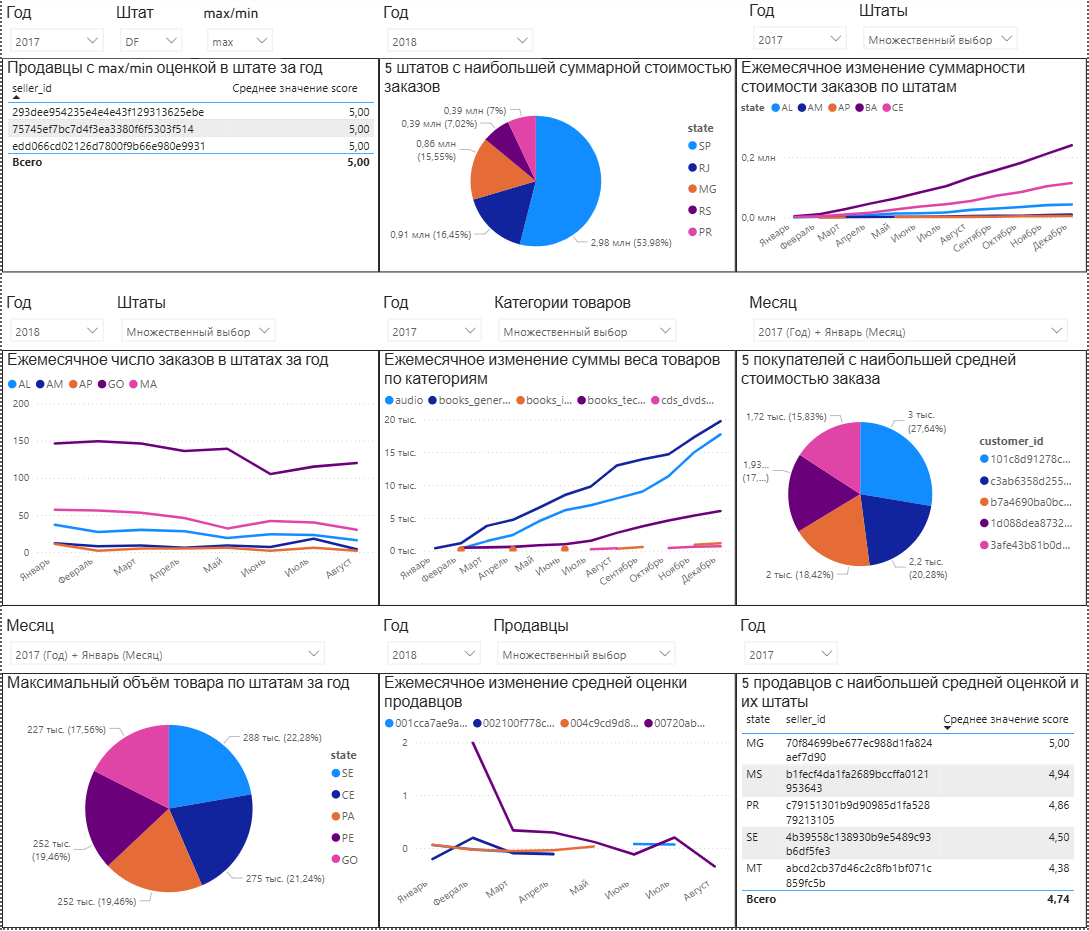

Layout of this report page (visuals, bound fields, positions):
{"tool":"powerbi","page":{"name":"Страница 1","canvas":[1280,1100],"ordinal":0},"visuals":[{"type":"tableEx","title":"Продавцы с max/min оценкой в штате за год","fields":{"Values":["Запрос1.seller_id","Avg(Запрос1.score)"]},"box":[0,73.1,445.1,252.9],"z":0},{"type":"slicer","title":"Год","fields":{"Values":["Запрос1.period.Изменение.Иерархия дат.Год"]},"box":[0,9.4,129.6,63.7],"z":1000},{"type":"slicer","title":"Штат","fields":{"Values":["Запрос1.state"]},"box":[129.6,9.4,93,63.7],"z":2000},{"type":"slicer","title":"max/min","fields":{"Values":["Запрос1.type"]},"box":[232,9.4,97.2,63.7],"z":3000},{"type":"lineChart","title":"Ежемесячное число заказов в штатах за год","fields":{"Category":["Запрос2.period.Изменение.Иерархия дат.Месяц"],"Y":["Avg(Запрос2.count)"],"Series":["Запрос2.state"]},"box":[0,418,445.1,302],"z":4000},{"type":"slicer","title":"Год","fields":{"Values":["Запрос2.period.Изменение.Иерархия дат.Год"]},"box":[0,352.1,129.6,65.8],"z":5000},{"type":"slicer","title":"Штаты","fields":{"Values":["Запрос2.state"]},"box":[130.6,352.1,201.7,65.8],"z":6000},{"type":"lineChart","title":"Ежемесячное изменение суммы веса товаров по категориям","fields":{"Category":["Запрос3.period.Изменение.Иерархия дат.Месяц"],"Y":["Sum(Запрос3.sum)"],"Series":["Запрос3.category_name"]},"box":[445,417.8,421.4,302.1],"z":7000},{"type":"slicer","title":"Год","fields":{"Values":["Запрос3.period.Изменение.Иерархия дат.Год"]},"box":[445.1,352.1,130.6,65.8],"z":8000},{"type":"slicer","title":"Категории товаров","fields":{"Values":["Запрос3.category_name"]},"box":[575.7,352.1,229.9,65.8],"z":9000},{"type":"pieChart","title":"Топ-5 штатов с наибольшей суммарной стоимостью заказов","fields":{"Category":["Запрос4.state"],"Y":["Sum(Запрос4.sum)"]},"box":[445,73.2,421.4,252.6],"z":10000},{"type":"slicer","title":"Год","fields":{"Values":["Запрос4.period.Изменение.Иерархия дат.Год"]},"box":[445.1,9.4,192.3,63.7],"z":11000},{"type":"pieChart","title":"Топ-5 покупателей с наибольшей средней стоимостью заказа","fields":{"Category":["Запрос5.customer_id"],"Y":["Avg(Запрос5.price)"]},"box":[866.3,417.8,414.3,302.1],"z":12000},{"type":"slicer","title":"Месяц","fields":{"Values":["Запрос5.period.Изменение.Иерархия дат.Год","Запрос5.period.Изменение.Иерархия дат.Месяц"]},"box":[876.9,351.7,390.7,66.1],"z":13000},{"type":"lineChart","title":"Ежемесячное изменение суммарности стоимости заказов по штатам","fields":{"Category":["Запрос6.period.Изменение.Иерархия дат.Месяц"],"Y":["Sum(Запрос6.sum)"],"Series":["Запрос6.state"]},"box":[866.3,73.2,414.3,252.6],"z":14000},{"type":"slicer","title":"Год","fields":{"Values":["Запрос6.period.Изменение.Иерархия дат.Год"]},"box":[876.9,7.1,129.8,66.1],"z":15000},{"type":"slicer","title":"Штаты","fields":{"Values":["Запрос6.state"]},"box":[1006.8,7.1,201.8,66.1],"z":16000},{"type":"pieChart","title":"Максимальный объём товара по штатам за год","fields":{"Y":["Max(Запрос7.volume)"],"Category":["Запрос7.state"]},"box":[0,799,445,301],"z":16001},{"type":"slicer","title":"Месяц","fields":{"Values":["Запрос7.period.Изменение.Иерархия дат.Год","Запрос7.period.Изменение.Иерархия дат.Месяц"]},"box":[0,732.9,390.7,66.1],"z":16002},{"type":"lineChart","title":"Ежемесячное изменение средней оценки продавцов","fields":{"Category":["Запрос8.period.Изменение.Иерархия дат.Месяц"],"Y":["Sum(Запрос8.score)"],"Series":["Запрос8.id"]},"box":[445,799,421.4,301],"z":16003},{"type":"slicer","title":"Год","fields":{"Values":["Запрос8.period.Изменение.Иерархия дат.Год"]},"box":[445,732.9,129.8,66.1],"z":16004},{"type":"slicer","title":"Продавцы","fields":{"Values":["Запрос8.id"]},"box":[574.8,732.9,230.2,66.1],"z":16005},{"type":"tableEx","fields":{"Values":["Запрос9.state","Запрос9.seller_id","Avg(Запрос9.score)"]},"box":[866,799,414,301],"z":16006},{"type":"slicer","title":"Год","fields":{"Values":["Запрос9.period.Изменение.Иерархия дат.Год"]},"box":[866.3,732.9,129.8,66.1],"z":16007}]}

Visuals, with their boxes in screenshot pixels (x1, y1, x2, y2), scaled from the page's 1280x1100 canvas onto the 1089x931 screenshot:
"Продавцы с max/min оценкой в штате за год" tableEx: <region>0, 62, 379, 276</region>
"Год" slicer: <region>0, 8, 110, 62</region>
"Штат" slicer: <region>110, 8, 189, 62</region>
"max/min" slicer: <region>197, 8, 280, 62</region>
"Ежемесячное число заказов в штатах за год" lineChart: <region>0, 354, 379, 609</region>
"Год" slicer: <region>0, 298, 110, 354</region>
"Штаты" slicer: <region>111, 298, 283, 354</region>
"Ежемесячное изменение суммы веса товаров по категориям" lineChart: <region>379, 354, 737, 609</region>
"Год" slicer: <region>379, 298, 490, 354</region>
"Категории товаров" slicer: <region>490, 298, 685, 354</region>
"Топ-5 штатов с наибольшей суммарной стоимостью заказов" pieChart: <region>379, 62, 737, 276</region>
"Год" slicer: <region>379, 8, 542, 62</region>
"Топ-5 покупателей с наибольшей средней стоимостью заказа" pieChart: <region>737, 354, 1088, 609</region>
"Месяц" slicer: <region>746, 298, 1078, 354</region>
"Ежемесячное изменение суммарности стоимости заказов по штатам" lineChart: <region>737, 62, 1088, 276</region>
"Год" slicer: <region>746, 6, 856, 62</region>
"Штаты" slicer: <region>857, 6, 1028, 62</region>
"Максимальный объём товара по штатам за год" pieChart: <region>0, 676, 379, 930</region>
"Месяц" slicer: <region>0, 620, 332, 676</region>
"Ежемесячное изменение средней оценки продавцов" lineChart: <region>379, 676, 737, 930</region>
"Год" slicer: <region>379, 620, 489, 676</region>
"Продавцы" slicer: <region>489, 620, 685, 676</region>
tableEx - Запрос9.state x Запрос9.seller_id: <region>737, 676, 1088, 930</region>
"Год" slicer: <region>737, 620, 847, 676</region>
